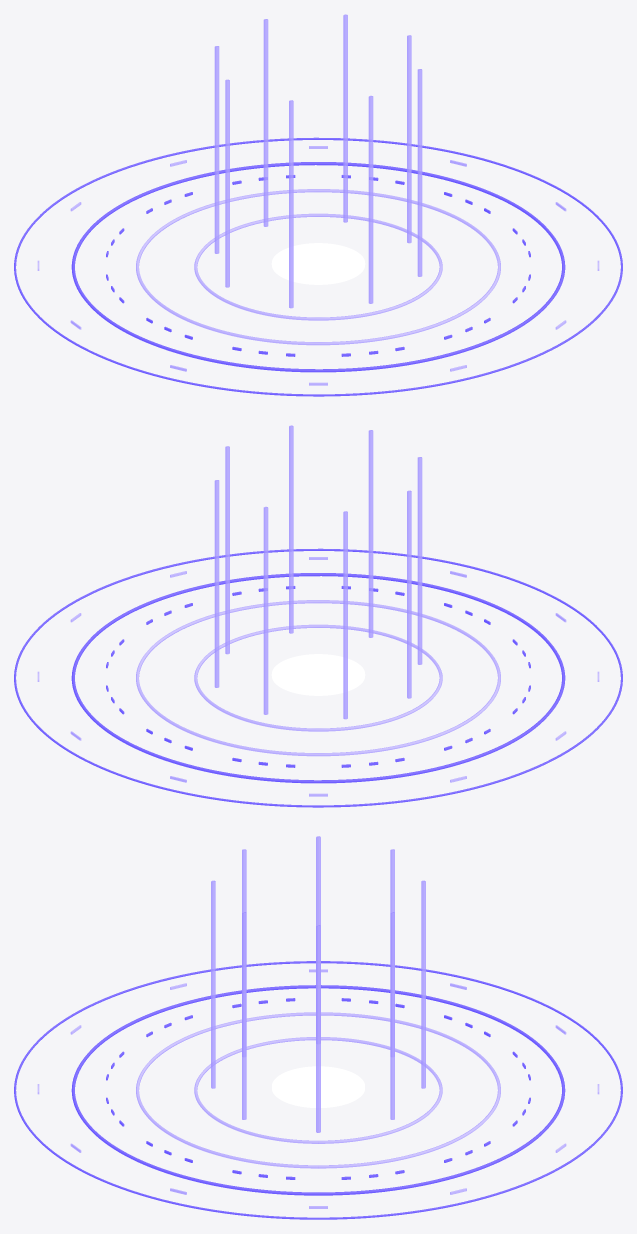
File: TeleportAnchorProjection_Reference.glb
3 views of the same model, one above another, from view 1: azimuth 30°, elevation 25°; view 2: azimuth 150°, elevation 25°; view 3: azimuth 270°, elevation 25° (orthographic).
Visible parts, largest first — view 1: AnchorProjection_ProjectedRing_02, AnchorProjection_ProjectedRing_03, AnchorProjection_ProjectedRing_01, AnchorProjection_CenterPortalGlow_Disc, AnchorProjection_ProjectedRing_00, AnchorProjection_VerticalLightColumn_06, AnchorProjection_VerticalLightColumn_03, AnchorProjection_VerticalLightColumn_07, AnchorProjection_VerticalLightColumn_02, AnchorProjection_VerticalLightColumn_00, AnchorProjection_VerticalLightColumn_01, AnchorProjection_VerticalLightColumn_04 (+1 smaller); view 2: AnchorProjection_ProjectedRing_02, AnchorProjection_ProjectedRing_03, AnchorProjection_ProjectedRing_01, AnchorProjection_CenterPortalGlow_Disc, AnchorProjection_ProjectedRing_00, AnchorProjection_VerticalLightColumn_02, AnchorProjection_VerticalLightColumn_01, AnchorProjection_VerticalLightColumn_05, AnchorProjection_VerticalLightColumn_06, AnchorProjection_VerticalLightColumn_00, AnchorProjection_VerticalLightColumn_03, AnchorProjection_VerticalLightColumn_04 (+1 smaller); view 3: AnchorProjection_ProjectedRing_02, AnchorProjection_ProjectedRing_03, AnchorProjection_ProjectedRing_01, AnchorProjection_CenterPortalGlow_Disc, AnchorProjection_ProjectedRing_00, AnchorProjection_VerticalLightColumn_02, AnchorProjection_VerticalLightColumn_06, AnchorProjection_VerticalLightColumn_00, AnchorProjection_VerticalLightColumn_01, AnchorProjection_VerticalLightColumn_07.
Boxes of the visible parts, x1=… form: AnchorProjection_ProjectedRing_02: x1=71, y1=162, x2=565, y2=372; AnchorProjection_ProjectedRing_03: x1=14, y1=137, x2=622, y2=396; AnchorProjection_ProjectedRing_01: x1=136, y1=189, x2=500, y2=345; AnchorProjection_CenterPortalGlow_Disc: x1=271, y1=243, x2=365, y2=284; AnchorProjection_ProjectedRing_00: x1=194, y1=213, x2=442, y2=320; AnchorProjection_VerticalLightColumn_06: x1=368, y1=95, x2=373, y2=303; AnchorProjection_VerticalLightColumn_03: x1=214, y1=46, x2=219, y2=253; AnchorProjection_VerticalLightColumn_07: x1=417, y1=69, x2=422, y2=276; AnchorProjection_VerticalLightColumn_02: x1=263, y1=19, x2=268, y2=226; AnchorProjection_VerticalLightColumn_00: x1=407, y1=35, x2=411, y2=243; AnchorProjection_VerticalLightColumn_01: x1=343, y1=14, x2=347, y2=222; AnchorProjection_VerticalLightColumn_04: x1=225, y1=79, x2=229, y2=287; AnchorProjection_ProjectedRing_02: x1=71, y1=573, x2=565, y2=783; AnchorProjection_ProjectedRing_03: x1=14, y1=548, x2=622, y2=807; AnchorProjection_ProjectedRing_01: x1=136, y1=600, x2=500, y2=756; AnchorProjection_CenterPortalGlow_Disc: x1=271, y1=654, x2=365, y2=695; AnchorProjection_ProjectedRing_00: x1=194, y1=624, x2=442, y2=731; AnchorProjection_VerticalLightColumn_02: x1=263, y1=506, x2=268, y2=714; AnchorProjection_VerticalLightColumn_01: x1=214, y1=480, x2=219, y2=687; AnchorProjection_VerticalLightColumn_05: x1=417, y1=457, x2=422, y2=664; AnchorProjection_VerticalLightColumn_06: x1=368, y1=430, x2=373, y2=637; AnchorProjection_VerticalLightColumn_00: x1=225, y1=446, x2=229, y2=654; AnchorProjection_VerticalLightColumn_03: x1=343, y1=511, x2=347, y2=719; AnchorProjection_VerticalLightColumn_04: x1=407, y1=490, x2=411, y2=698; AnchorProjection_ProjectedRing_02: x1=71, y1=985, x2=565, y2=1195; AnchorProjection_ProjectedRing_03: x1=14, y1=961, x2=622, y2=1219; AnchorProjection_ProjectedRing_01: x1=136, y1=1012, x2=500, y2=1168; AnchorProjection_CenterPortalGlow_Disc: x1=272, y1=1066, x2=364, y2=1107; AnchorProjection_ProjectedRing_00: x1=194, y1=1037, x2=442, y2=1143; AnchorProjection_VerticalLightColumn_02: x1=421, y1=880, x2=425, y2=1088; AnchorProjection_VerticalLightColumn_06: x1=211, y1=880, x2=215, y2=1088; AnchorProjection_VerticalLightColumn_00: x1=316, y1=925, x2=320, y2=1132; AnchorProjection_VerticalLightColumn_01: x1=390, y1=912, x2=394, y2=1119; AnchorProjection_VerticalLightColumn_07: x1=242, y1=912, x2=246, y2=1119.
Bounding box in the file's own units: 2.09 × 0.7957 × 2.09.
